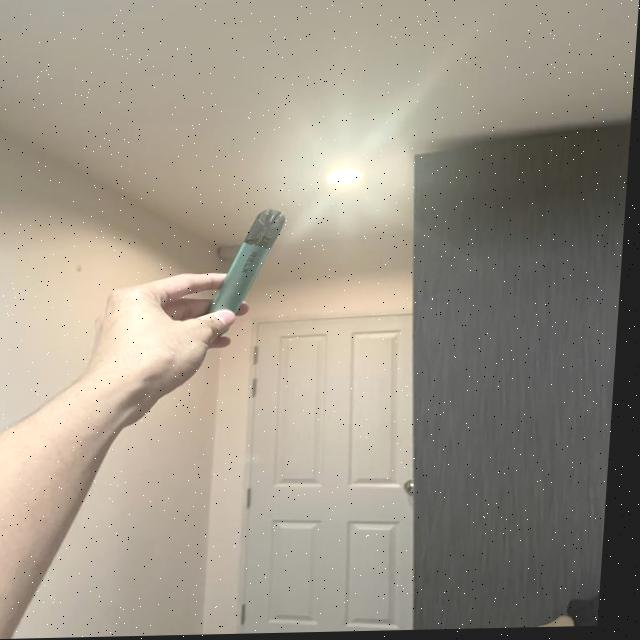vape: (216, 208, 291, 310)
